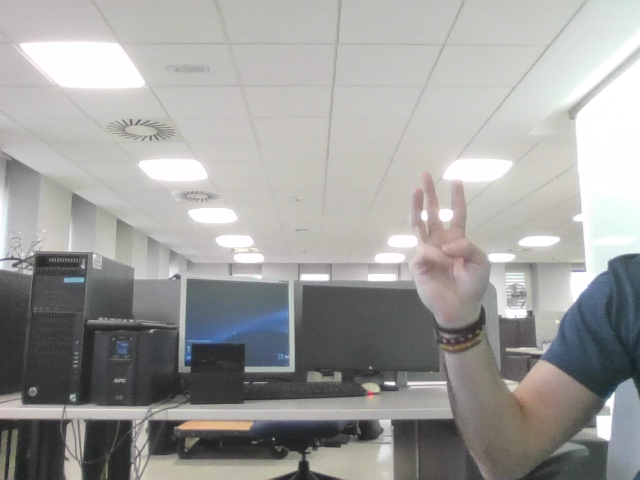3Dedos: (420, 183, 479, 285)
